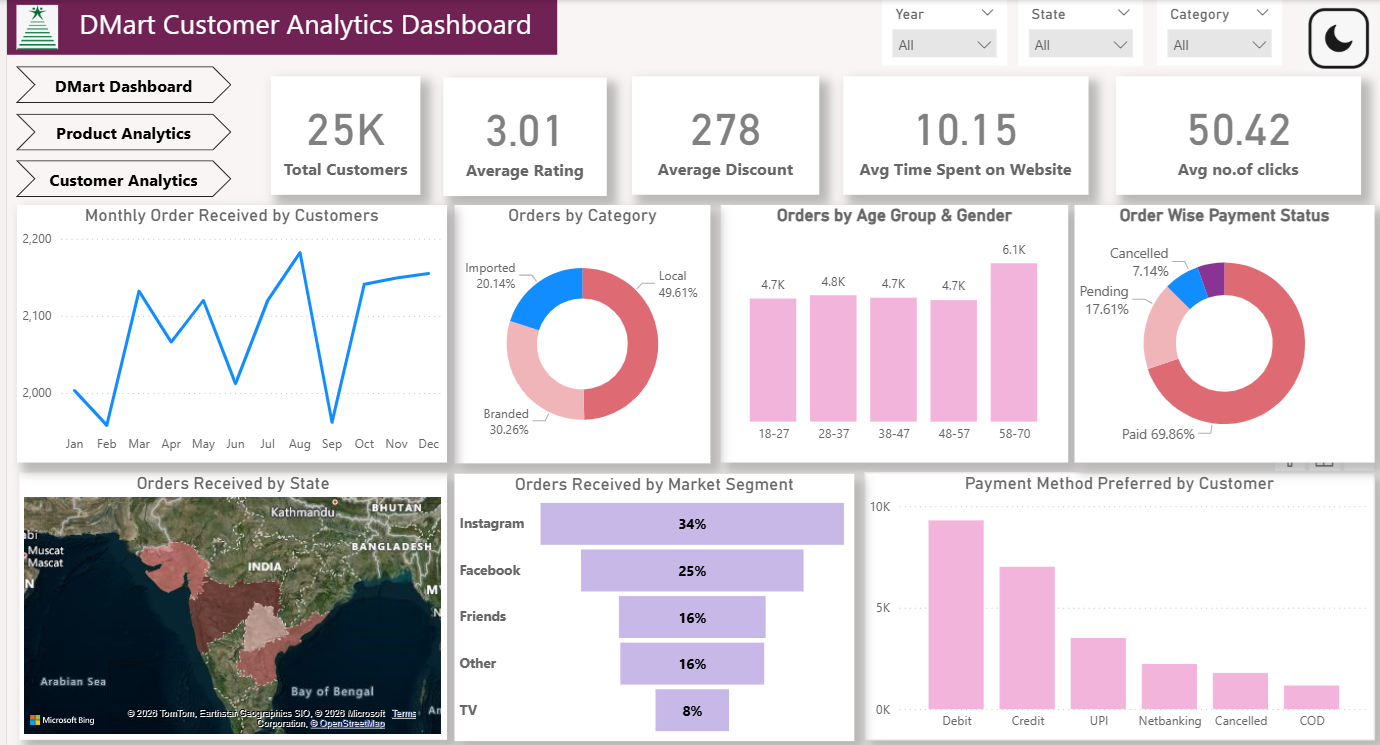

This screenshot's page, from the dashboard's own definition file:
{"tool":"powerbi","page":{"name":"Customer Analytics","canvas":[1346,730],"ordinal":2},"visuals":[{"type":"image","box":[0,0,57.5,53.8],"z":0},{"type":"card","fields":{"Values":["Dmart.Average Rating"]},"box":[427.1,75.6,160.2,116.2],"z":1000},{"type":"card","title":"Cancelled / Retuen Order Count","fields":{"Values":["Dmart.Total Customers"]},"box":[258.3,74.4,146.8,116.2],"z":2000},{"type":"card","title":"Cancelled / Retuen Order Count","fields":{"Values":["Dmart.Average Discount"]},"box":[611.8,74.4,183.5,116.2],"z":3000},{"type":"card","title":"Cancelled / Retuen Order Count","fields":{"Values":["Dmart.Avg Time Spent on Website"]},"box":[818.6,74.4,239.7,116.2],"z":4000},{"type":"card","title":"Cancelled / Retuen Order Count","fields":{"Values":["Dmart.Avg no.of clicks"]},"box":[1085.2,74.4,239.7,116.2],"z":5000},{"type":"textbox","box":[57.5,0,462.2,53.8],"z":6000},{"type":"filledMap","title":"Orders Received by State","fields":{"Category":["Dmart.State"]},"box":[11.7,462.4,418.2,261.7],"z":7000},{"type":"columnChart","title":"Orders by Age Group & Gender","fields":{"Category":["Dmart.Age_Bin Hierarchy.Age_Bin","Dmart.Age_Bin Hierarchy.Gender"],"Y":["CountNonNull(Dmart.Order ID)"]},"box":[698.4,200.6,340,252],"z":8000},{"type":"donutChart","title":"Orders by Category","fields":{"Category":["Dmart.Category"],"Y":["CountNonNull(Dmart.Order ID)"]},"box":[437.5,200.5,250.7,253.1],"z":9000},{"type":"columnChart","title":"Payment Method Preferred by Customer","fields":{"Category":["Dmart.Payment Method"],"Y":["CountNonNull(Dmart.Order ID)"]},"box":[839.1,462.4,499.1,261.8],"z":10000},{"type":"lineChart","title":"Monthly Order Received by Customers","fields":{"Category":["Dmart.Month"],"Y":["CountNonNull(Dmart.Order ID)"]},"box":[9.3,200.8,420.6,251.9],"z":11000},{"type":"funnel","title":"Orders Received by Market Segment","fields":{"Category":["Dmart.Marketing/Advertisement"],"Y":["CountNonNull(Dmart.Order ID)"]},"box":[437.5,463.4,391.3,261.7],"z":12000},{"type":"donutChart","title":"Order Wise Payment Status","fields":{"Category":["Dmart.Payment Status"],"Y":["CountNonNull(Dmart.Order ID)"]},"box":[1044.6,200.6,293.6,252],"z":13000},{"type":"slicer","fields":{"Values":["Dmart.State"]},"box":[1008.2,0,122.3,64.8],"z":14000},{"type":"slicer","fields":{"Values":["Dmart.Category"]},"box":[1143.9,0,122.3,63.6],"z":15000},{"type":"slicer","fields":{"Values":["Dmart.Year"]},"box":[874.8,0,122.3,63.6],"z":16000},{"type":"pageNavigator","box":[8.7,64.8,211.9,129.7],"z":17000},{"type":"image","box":[1267.7,0,77,78.2],"z":18000}]}

Visuals, with their boxes in screenshot pixels (x1, y1, x2, y2), scaled from the page's 1346x730 canvas onto the 1380x745 screenshot:
image: crop(0, 0, 59, 55)
card - Dmart.Average Rating: crop(438, 77, 602, 196)
"Cancelled / Retuen Order Count" card: crop(265, 76, 415, 195)
"Cancelled / Retuen Order Count" card: crop(627, 76, 815, 195)
"Cancelled / Retuen Order Count" card: crop(839, 76, 1085, 195)
"Cancelled / Retuen Order Count" card: crop(1113, 76, 1358, 195)
textbox: crop(59, 0, 533, 55)
"Orders Received by State" filledMap: crop(12, 472, 441, 739)
"Orders by Age Group & Gender" columnChart: crop(716, 205, 1065, 462)
"Orders by Category" donutChart: crop(449, 205, 706, 463)
"Payment Method Preferred by Customer" columnChart: crop(860, 472, 1372, 739)
"Monthly Order Received by Customers" lineChart: crop(10, 205, 441, 462)
"Orders Received by Market Segment" funnel: crop(449, 473, 850, 740)
"Order Wise Payment Status" donutChart: crop(1071, 205, 1372, 462)
slicer - Dmart.State: crop(1034, 0, 1159, 66)
slicer - Dmart.Category: crop(1173, 0, 1298, 65)
slicer - Dmart.Year: crop(897, 0, 1022, 65)
pageNavigator: crop(9, 66, 226, 198)
image: crop(1300, 0, 1379, 80)
